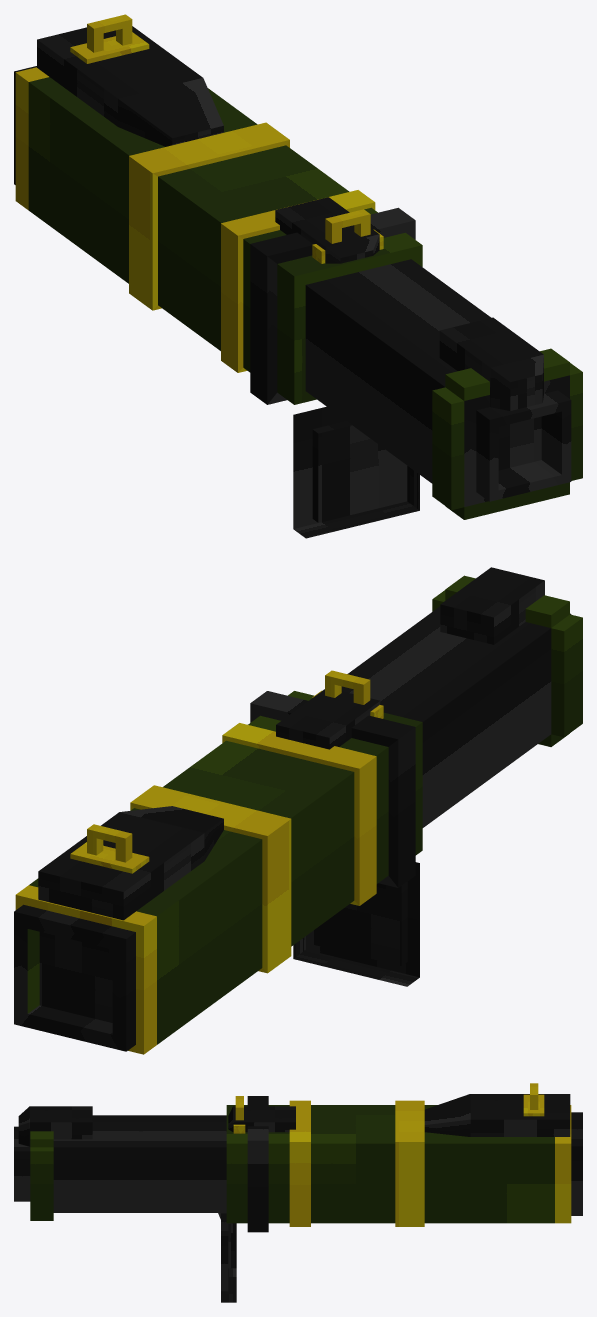
File: Gun-03a.fbx
3 renders of one model, top to bottom at view 1: azimuth 30°, elevation 25°; view 2: azimuth 150°, elevation 25°; view 3: azimuth 270°, elevation 25°, orthographic. The views are drawn at different scales.
Visible parts, largest first — view 1: Gun-03a; view 2: Gun-03a; view 3: Gun-03a.
Boxes of the visible parts, left/top/right/bottom form: Gun-03a: left=14, top=14, right=582, bottom=538; Gun-03a: left=14, top=567, right=582, bottom=1054; Gun-03a: left=14, top=1083, right=582, bottom=1302.
Size of the model in its own units: 23.88 by 48.9 by 128.
5 materials, 5 textured.
